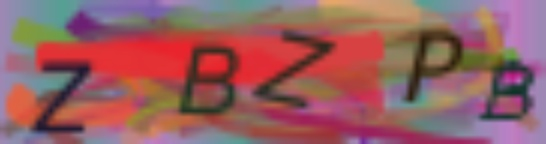B: (174, 44, 241, 119), (478, 56, 538, 124)
P: (403, 29, 467, 104)
Z: (251, 26, 337, 110), (28, 56, 93, 136)
